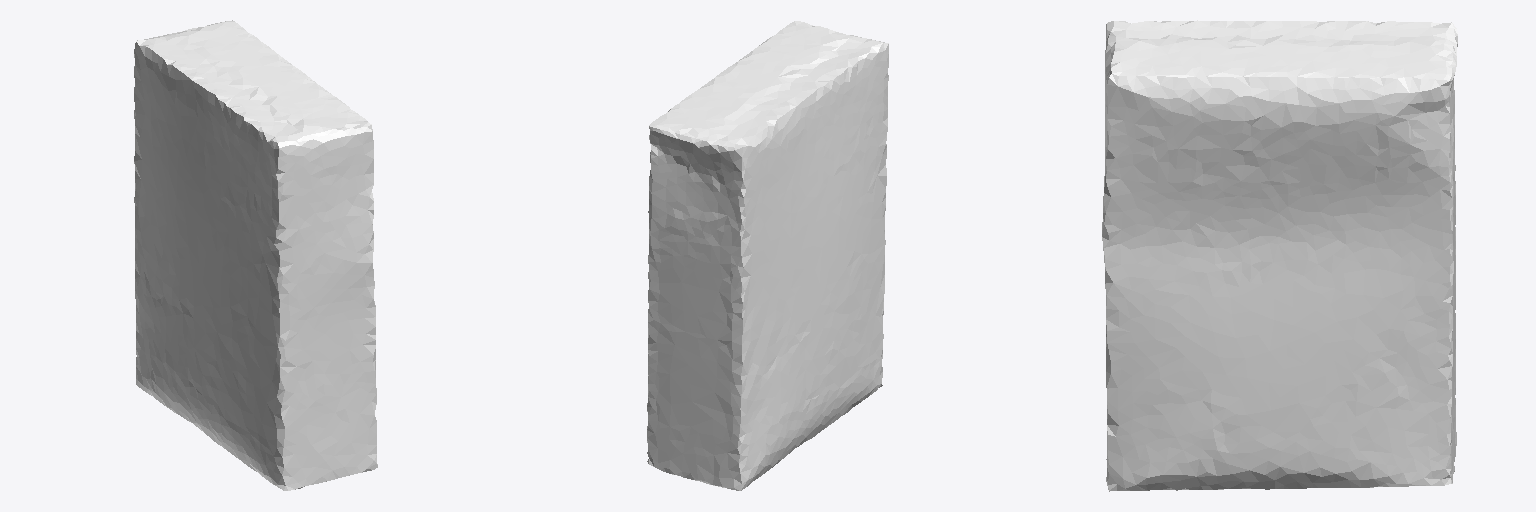
robot.urdf — cracker_box:
<?xml version="1.0" ?>
<robot name="cracker_box">
  <link name="Link">

    <inertial>
      <origin rpy="0 0 0" xyz="-0.014854 -0.014205 0.102205"/>
       <mass value="0.33"/>

       <inertia ixx="0.000013" ixy="0.00000000113" ixz="-0.00000000162"
                iyy="0.000009" iyz="0.00000000054"
                izz="0.000005"/>
    </inertial>
    <visual>
      <origin rpy="0 0 0" xyz="0 0 0"/>
      <geometry>
            <mesh filename="textured2.obj" scale="1 1 1"/>
      </geometry>
        <material name="framemat0">
        <color rgba="1 1 1 1"/>
      </material>
    </visual>

    <collision>
      <geometry>
	 	 <mesh filename="textured2.obj" scale="1 1 1"/>
      </geometry>
    </collision>
  </link>
</robot>

--- What the picture shows (computed from the rendered views, not written in the file) ---
Views: 3 orthographic renders of the robot side by side, from view 1: azimuth 30°, elevation 25°; view 2: azimuth 150°, elevation 25°; view 3: azimuth 270°, elevation 25°.
Model cracker_box with 1 links and 0 joints (none), rooted at Link, posed every joint at zero.
Links seen in each view (by area): view 1: Link; view 2: Link; view 3: Link.
Link boxes in pixels (x1,y1,x2,y2): Link: [134, 20, 377, 490]; Link: [647, 21, 888, 490]; Link: [1102, 20, 1457, 491].
Bounding box of the posed robot: 0.0718 × 0.1639 × 0.2136 m (x, y, z).
Meshes: 1 distinct files referenced, 1 mesh visuals loaded (1 OBJ).